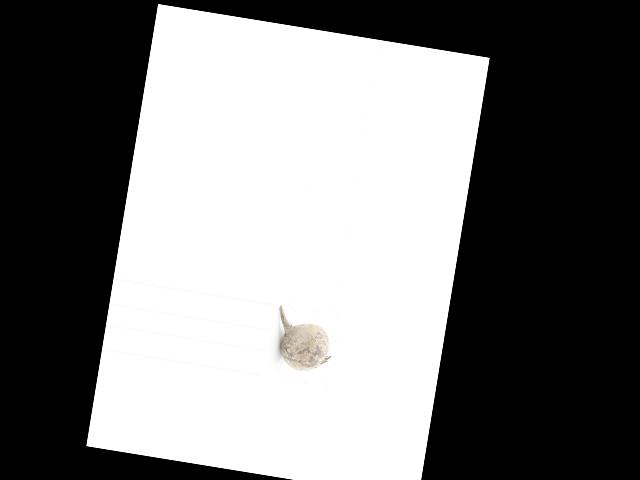beet: (270, 305, 337, 375)
